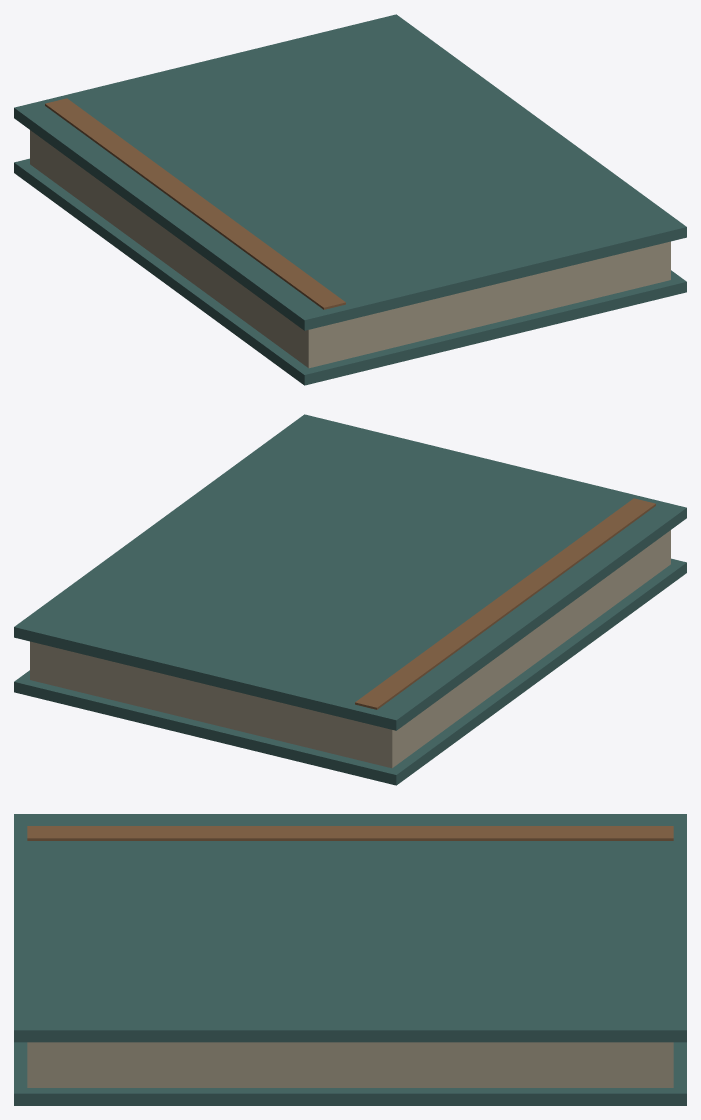
File: L-18_logbook.glb
The picture shows the model from 3 angles, top to bottom: view 1: azimuth 30°, elevation 25°; view 2: azimuth 150°, elevation 25°; view 3: azimuth 270°, elevation 25°; orthographic projection. The views are drawn at different scales.
Visible parts, largest first — view 1: L-18_logbook; view 2: L-18_logbook; view 3: L-18_logbook.
Boxes of the visible parts, box(x1,y1,x2,y2) form: L-18_logbook: box(14, 14, 686, 385); L-18_logbook: box(14, 414, 686, 785); L-18_logbook: box(14, 814, 686, 1105).
Bounding box in the file's own units: 0.19 × 0.032 × 0.25.
